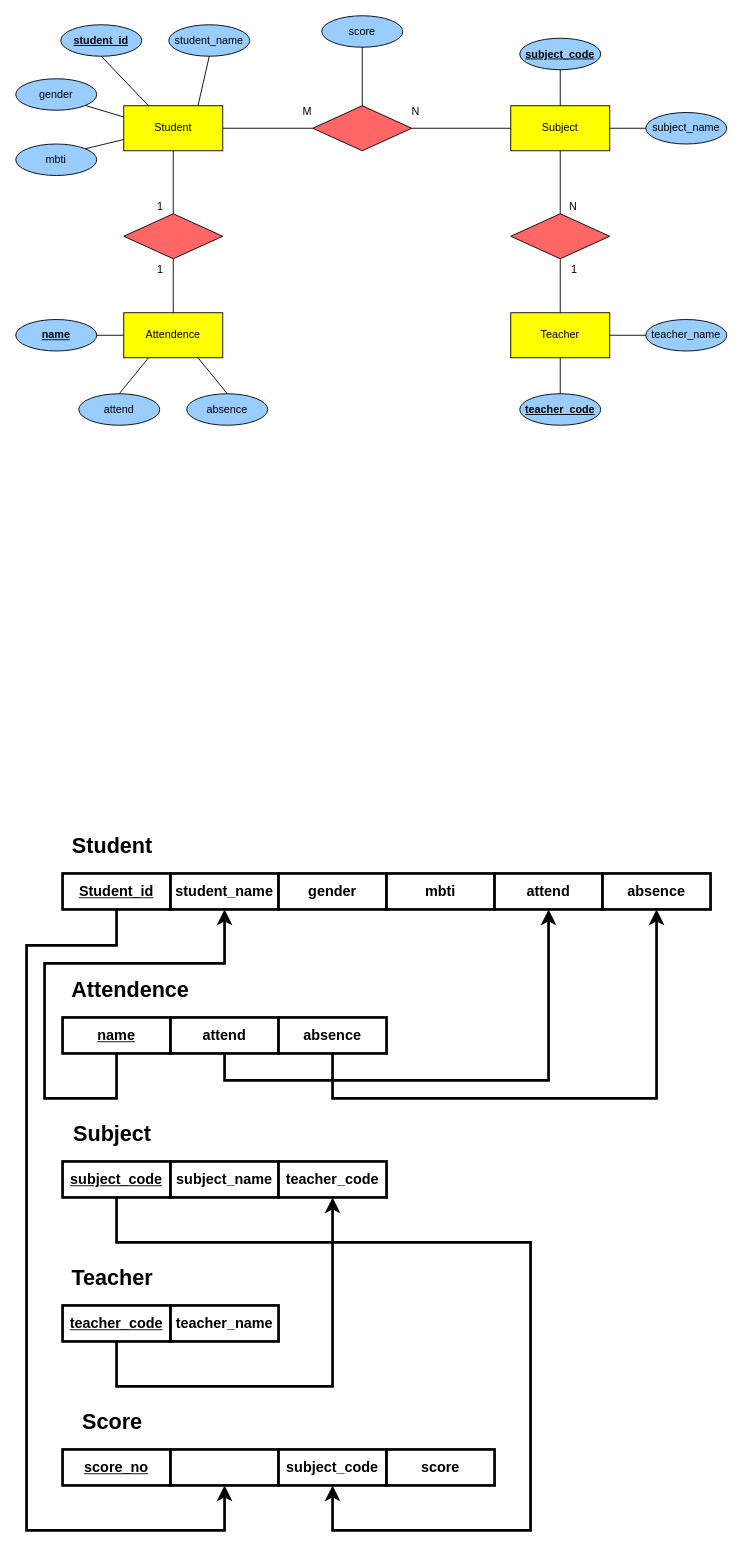
This 743x1556 diagram has some shape labels left out. Here are the shapes that lost their labels. From the top down, the centre of each, then its label:
At point 362,128: "exam".
At point 173,236: "Check".
At point 560,236: "Teach".
At point 224,1467: "examinee".
